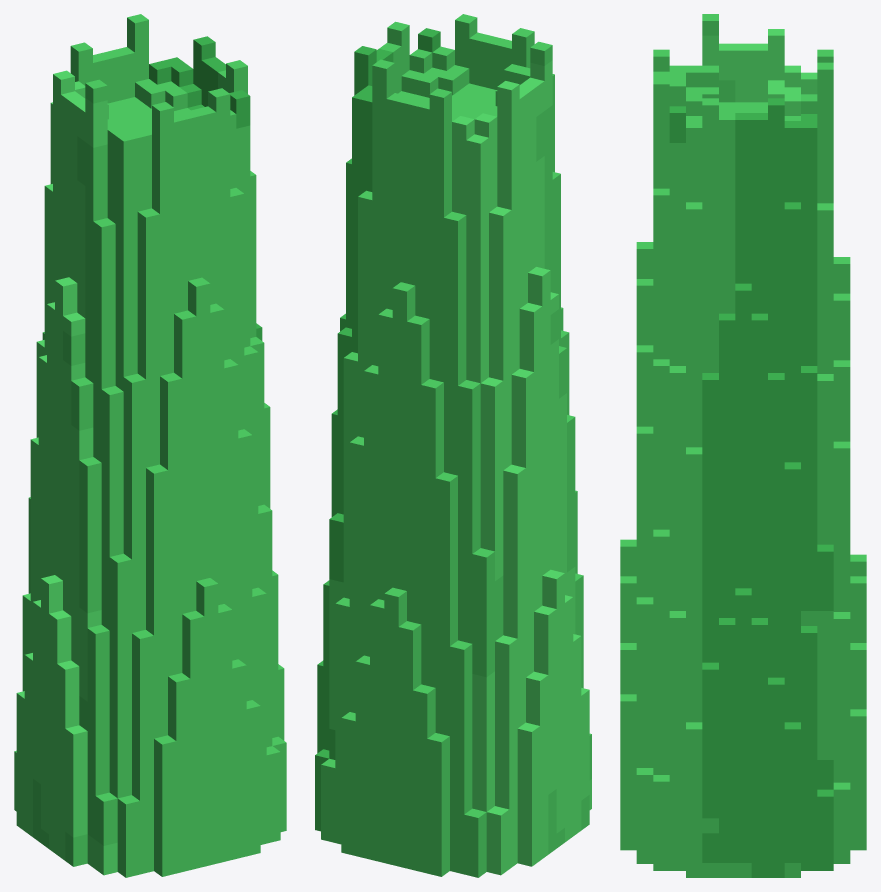
Rendered from pan_3.FBX.
3 views of the same model, side by side, from view 1: azimuth 30°, elevation 25°; view 2: azimuth 150°, elevation 25°; view 3: azimuth 270°, elevation 25° (orthographic).
Visible parts, largest first — view 1: default038; view 2: default038; view 3: default038.
Part boxes in pixels (left/top/right/bottom): default038: left=14, top=14, right=286, bottom=877; default038: left=315, top=14, right=591, bottom=877; default038: left=620, top=14, right=866, bottom=877.
Size of the model in its own units: 450 by 1560 by 450.
